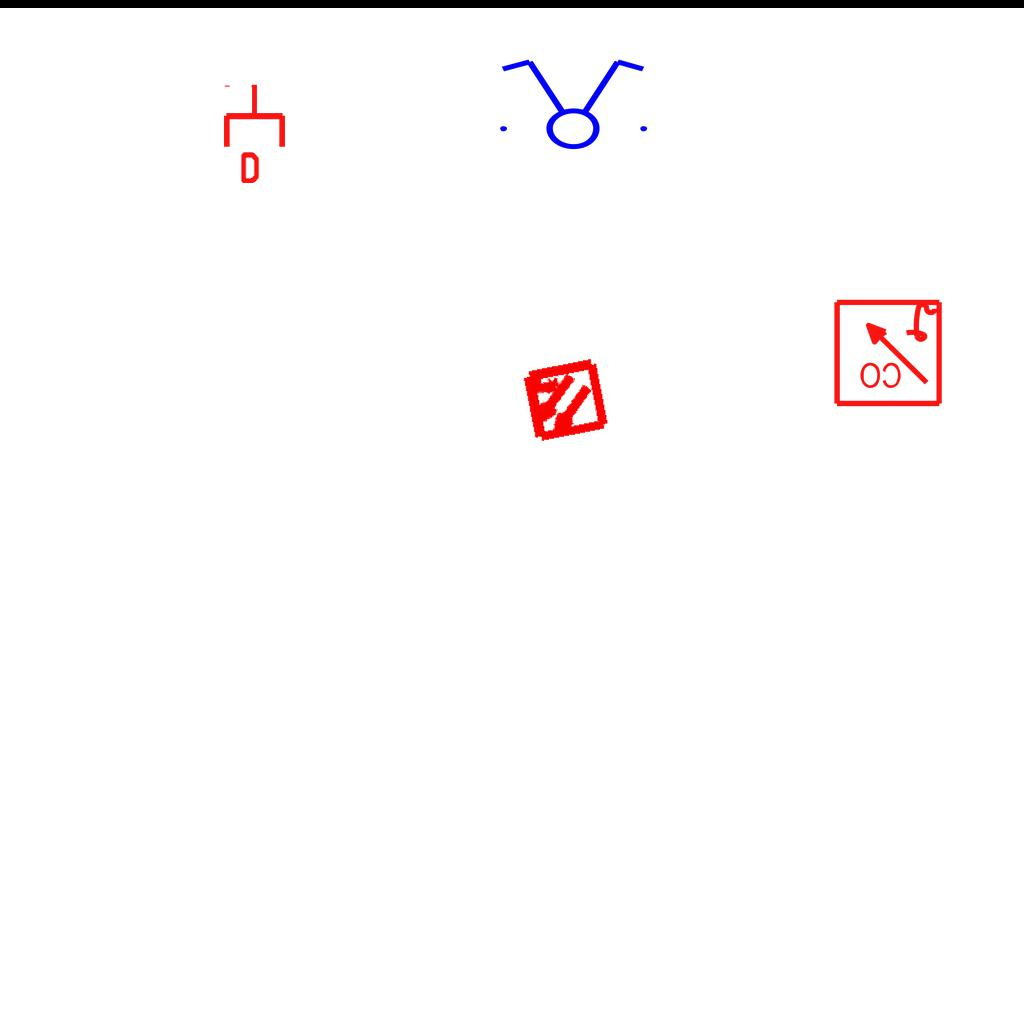Datenanschluss_einfach: (220, 83, 289, 183)
OT_Multisensormelder_(Kombination_RMO_WMD): (497, 334, 630, 467)
ROA_Rauchmelder_optisch_mit_Signalgeber_(Sockelsirene): (831, 295, 944, 408)
Serienschalter: (488, 55, 656, 151)
